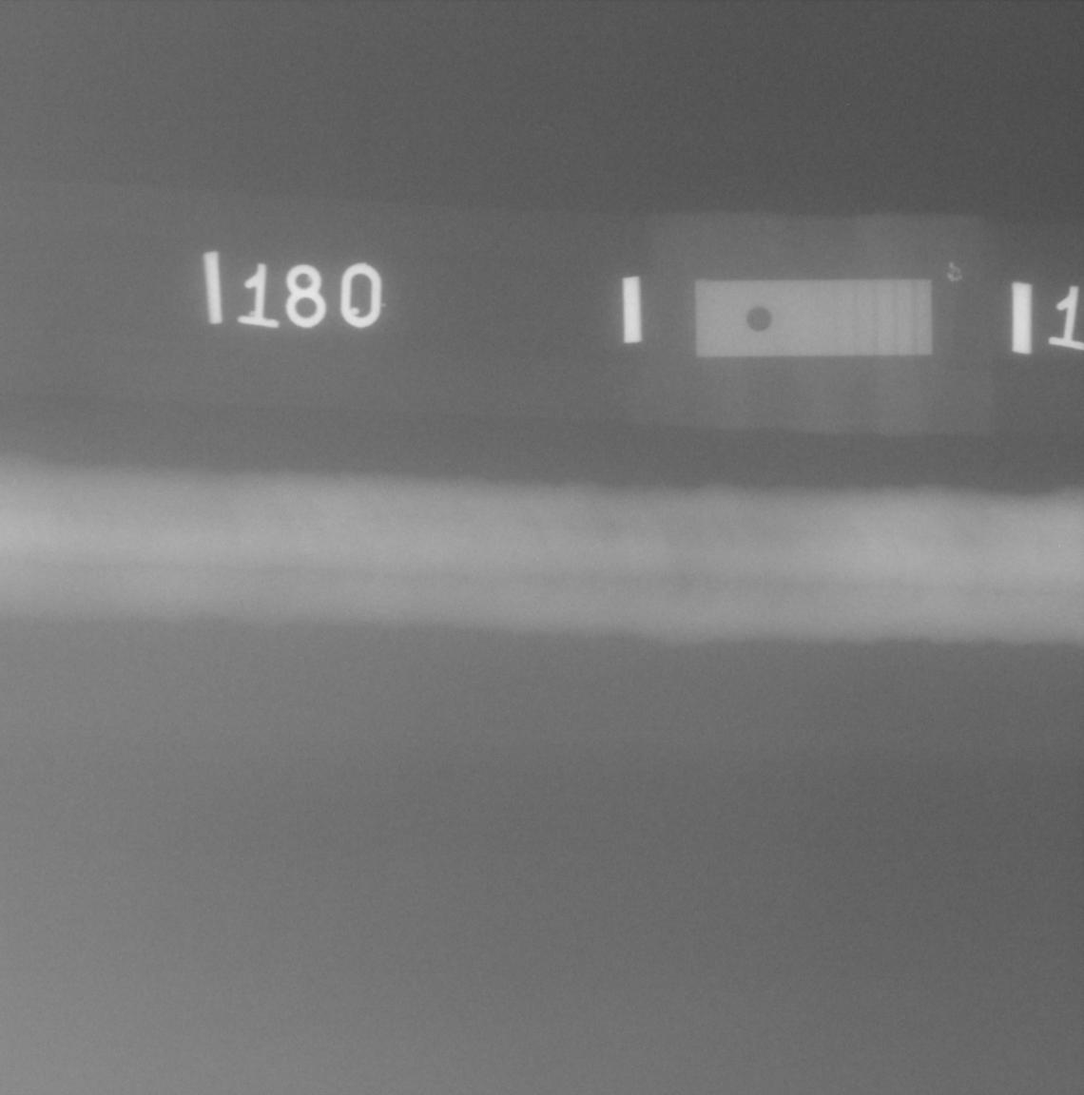Reference Standard 1: (696, 278, 932, 357)
